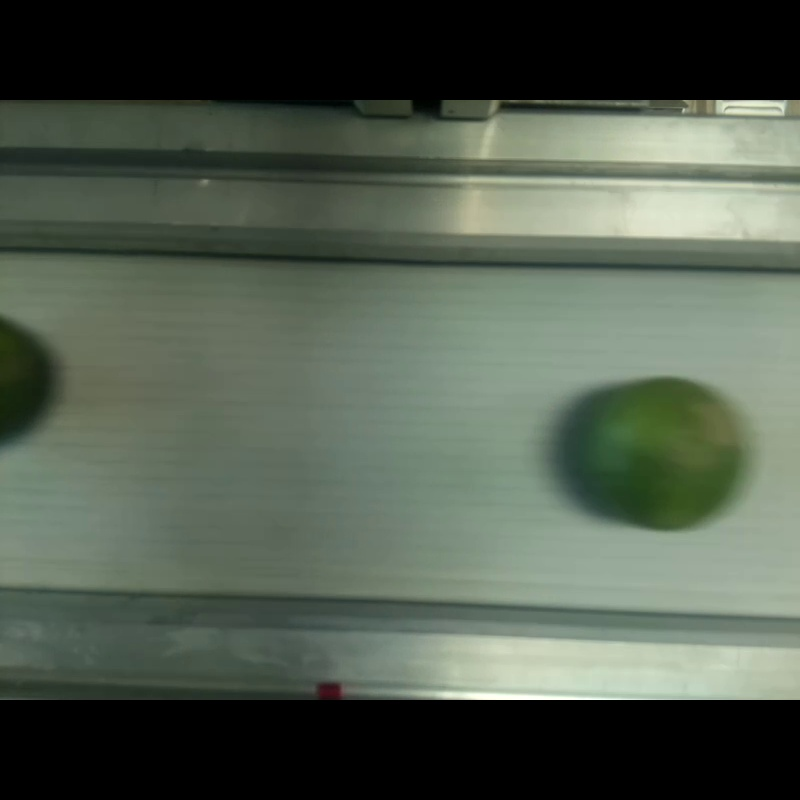lime: (567, 378, 743, 530)
